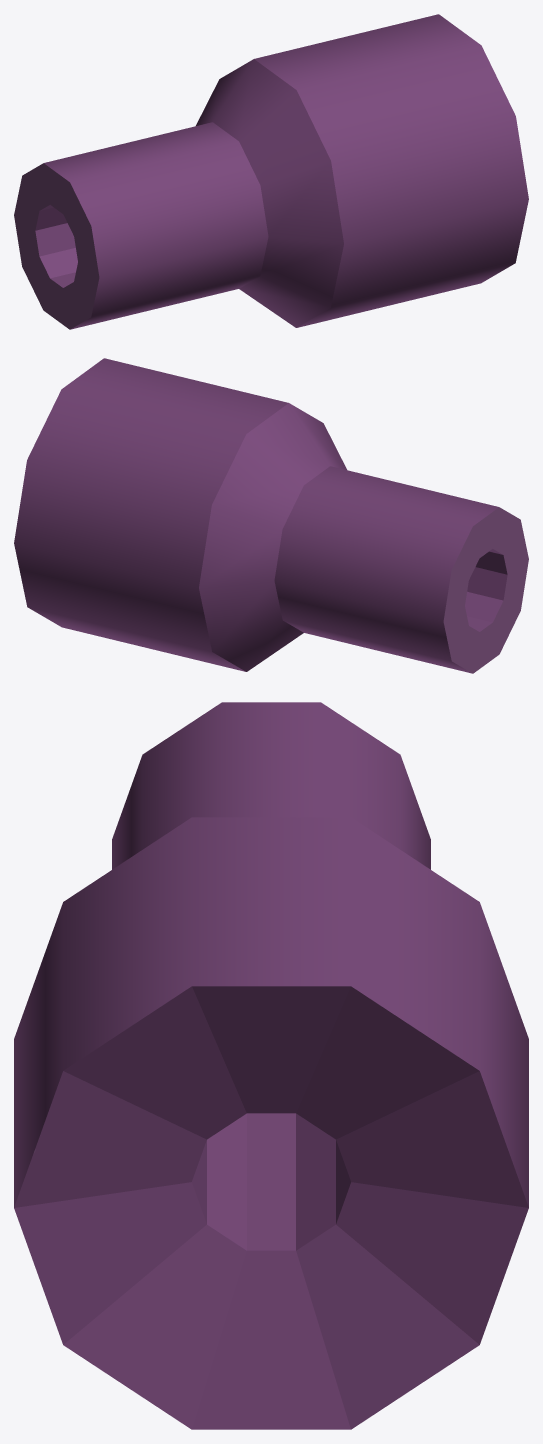
The model's file is PurpleTurret.obj.
The picture shows the model from 3 angles, top to bottom: view 1: azimuth 30°, elevation 25°; view 2: azimuth 150°, elevation 25°; view 3: azimuth 270°, elevation 25°; orthographic projection. The views are drawn at different scales.
Visible parts, largest first — view 1: polySurface4; view 2: polySurface4; view 3: polySurface4.
Boxes of the visible parts, x1,y1,x2,y2 form: polySurface4: [14, 14, 528, 329]; polySurface4: [14, 358, 528, 673]; polySurface4: [14, 702, 528, 1429].
Bounding box in the file's own units: 0.9476 × 0.5345 × 0.5613.
